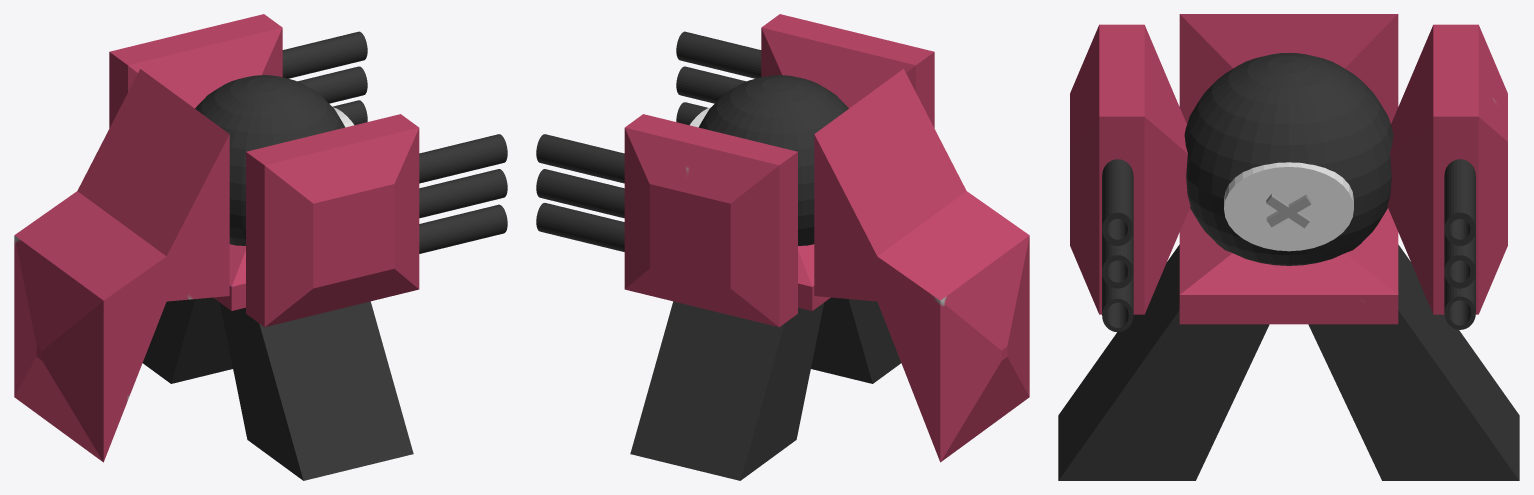
The model's file is Enemy2Down.obj.
3 views of the same model, side by side, from view 1: azimuth 30°, elevation 25°; view 2: azimuth 150°, elevation 25°; view 3: azimuth 270°, elevation 25° (orthographic). The views are drawn at different scales.
Visible parts, largest first — view 1: 円柱.014; view 2: 円柱.014; view 3: 円柱.014.
Boxes of the visible parts, left/top/right/bottom form: 円柱.014: left=14, top=14, right=507, bottom=480; 円柱.014: left=536, top=14, right=1029, bottom=480; 円柱.014: left=1058, top=14, right=1519, bottom=480.
Bounding box in the file's own units: 5.06 × 3.91 × 4.22.
1 material, 1 textured.
